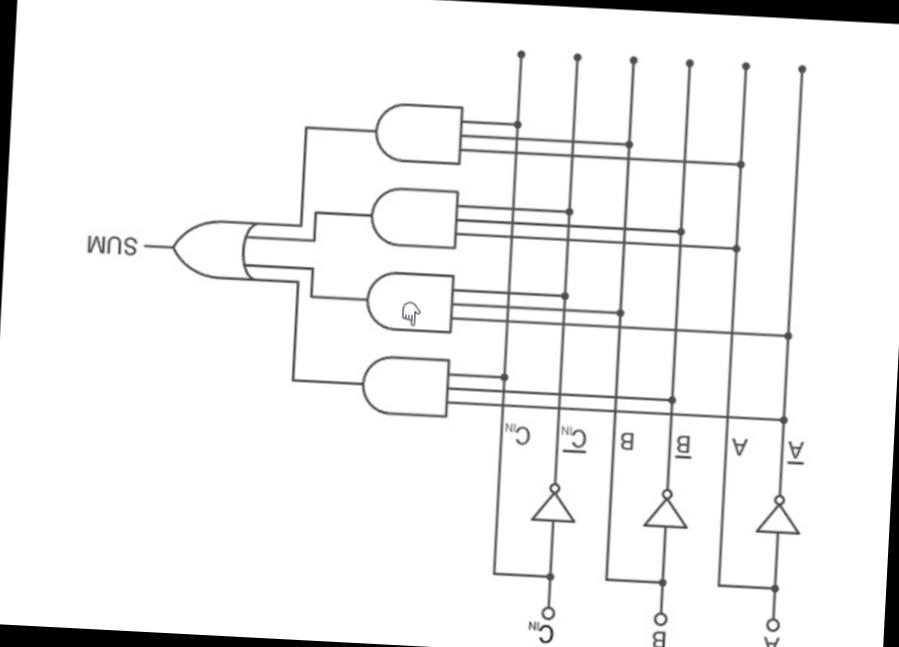and: (350, 90, 473, 170), (354, 344, 453, 427), (361, 181, 465, 258), (363, 266, 459, 340)
not: (632, 480, 692, 541), (749, 484, 806, 546), (526, 472, 580, 536)
or: (167, 196, 266, 297)
